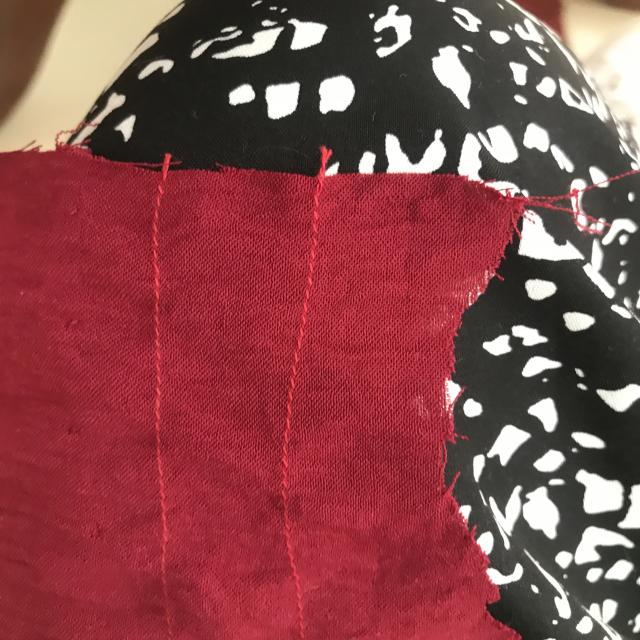good: (141, 250, 176, 465), (274, 386, 306, 477)
